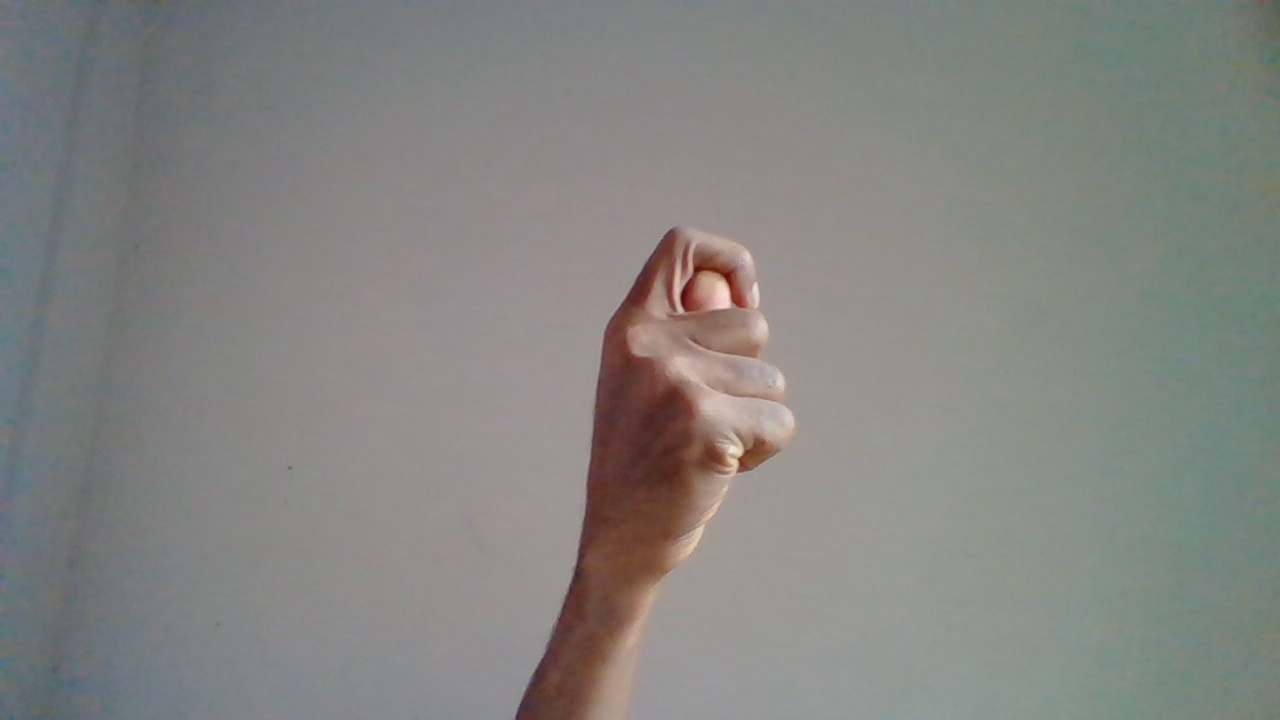che: (575, 226, 795, 694)
